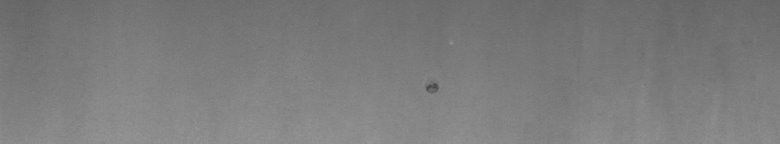fi: (423, 76, 442, 98)
